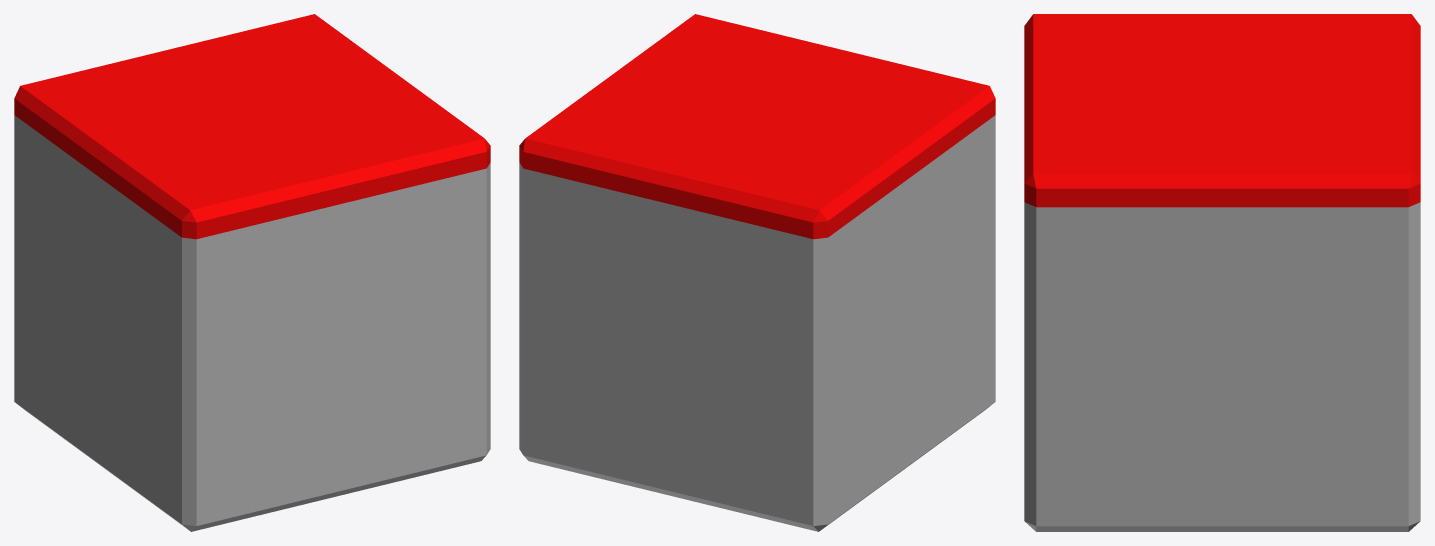
Rendered from BlockModel.fbx.
3 views of the same model, side by side, from view 1: azimuth 30°, elevation 25°; view 2: azimuth 150°, elevation 25°; view 3: azimuth 270°, elevation 25° (orthographic). The views are drawn at different scales.
Parts seen in each view (by area): view 1: pCube1; view 2: pCube1; view 3: pCube1.
Part boxes in pixels (x1,y1,x2,y2): pCube1: [14, 14, 490, 531]; pCube1: [519, 14, 995, 531]; pCube1: [1024, 14, 1420, 531].
Size of the model in its own units: 1585 by 1585 by 1585.
